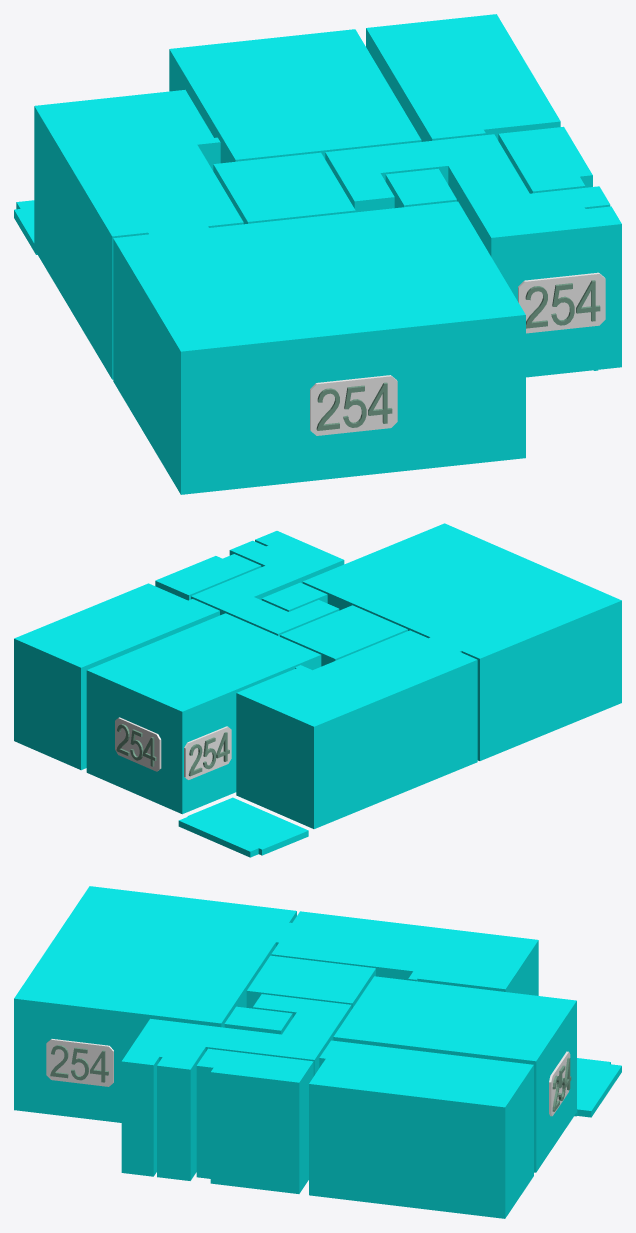
3 views of the same model, one above another, from view 1: azimuth 30°, elevation 25°; view 2: azimuth 150°, elevation 25°; view 3: azimuth 270°, elevation 25° (orthographic). The views are drawn at different scales.
Parts seen in each view (by area): view 1: g_7, g_6, g_3, g_0, g_1, g_4, g_2, g_12, g_28, g_5, g_8; view 2: g_7, g_6, g_0, g_1, g_3, g_8, g_4, g_2, g_24, g_16, g_5; view 3: g_7, g_1, g_0, g_3, g_2, g_6, g_4, g_20, g_8, g_5, g_24.
Part boxes in pixels (x1,y1,x2,y2): g_7: (113, 201, 525, 494); g_6: (34, 89, 243, 379); g_3: (325, 134, 621, 377); g_0: (169, 29, 421, 163); g_1: (366, 14, 560, 141); g_4: (213, 152, 355, 224); g_2: (498, 126, 592, 193); g_12: (310, 375, 397, 435); g_28: (518, 272, 605, 333); g_5: (385, 168, 456, 207); g_8: (14, 200, 37, 254); g_7: (302, 523, 621, 760); g_6: (236, 630, 477, 828); g_0: (86, 613, 321, 814); g_1: (14, 583, 219, 770); g_3: (191, 531, 344, 636); g_8: (178, 797, 308, 857); g_4: (280, 605, 407, 666); g_2: (155, 554, 261, 600); g_24: (115, 717, 161, 771); g_16: (184, 726, 231, 779); g_5: (261, 582, 327, 611); g_7: (14, 886, 296, 1122); g_1: (309, 1040, 533, 1218); g_0: (333, 976, 576, 1172); g_3: (121, 994, 351, 1180); g_2: (196, 1048, 313, 1193); g_6: (271, 911, 538, 995); g_4: (246, 955, 375, 1009); g_20: (46, 1039, 113, 1086); g_8: (574, 1058, 621, 1117); g_5: (224, 1006, 292, 1034); g_24: (549, 1051, 570, 1116).
Size of the model in its own units: 10.96 by 2.74 by 12.73.
